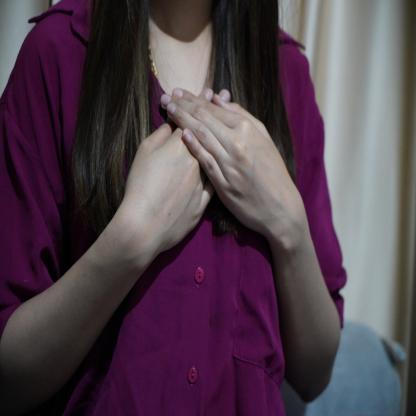Grieve: (110, 83, 309, 271)
